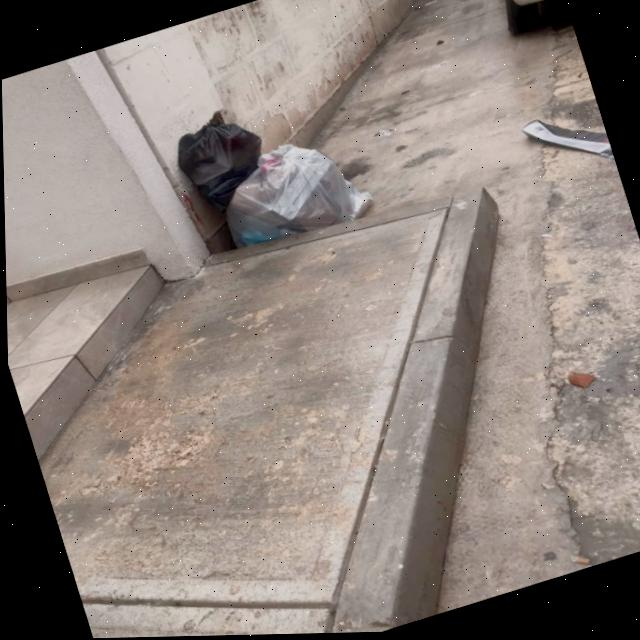Mixed Waste -Black Bag-: (165, 101, 278, 218)
Recycled Waste -Grey or Green Bag-: (210, 125, 378, 258)
